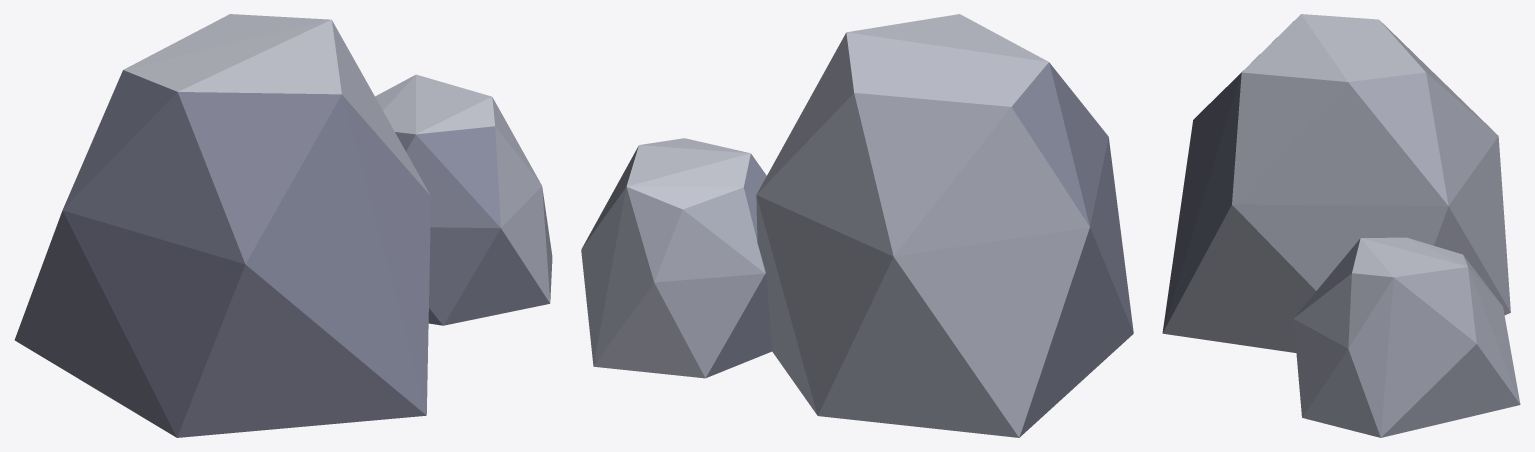
Rendered from stone_smallD.glb.
3 renders of one model, left to right at view 1: azimuth 30°, elevation 25°; view 2: azimuth 150°, elevation 25°; view 3: azimuth 270°, elevation 25°, orthographic. The views are drawn at different scales.
Visible parts, largest first — view 1: stone_smallD; view 2: stone_smallD; view 3: stone_smallD.
Boxes of the visible parts, bbox=[...] form: stone_smallD: bbox=[14, 14, 552, 437]; stone_smallD: bbox=[581, 14, 1133, 437]; stone_smallD: bbox=[1162, 14, 1520, 437].
Bounding box in the file's own units: 0.374 × 0.2211 × 0.2779.
1 material, 1 textured.
